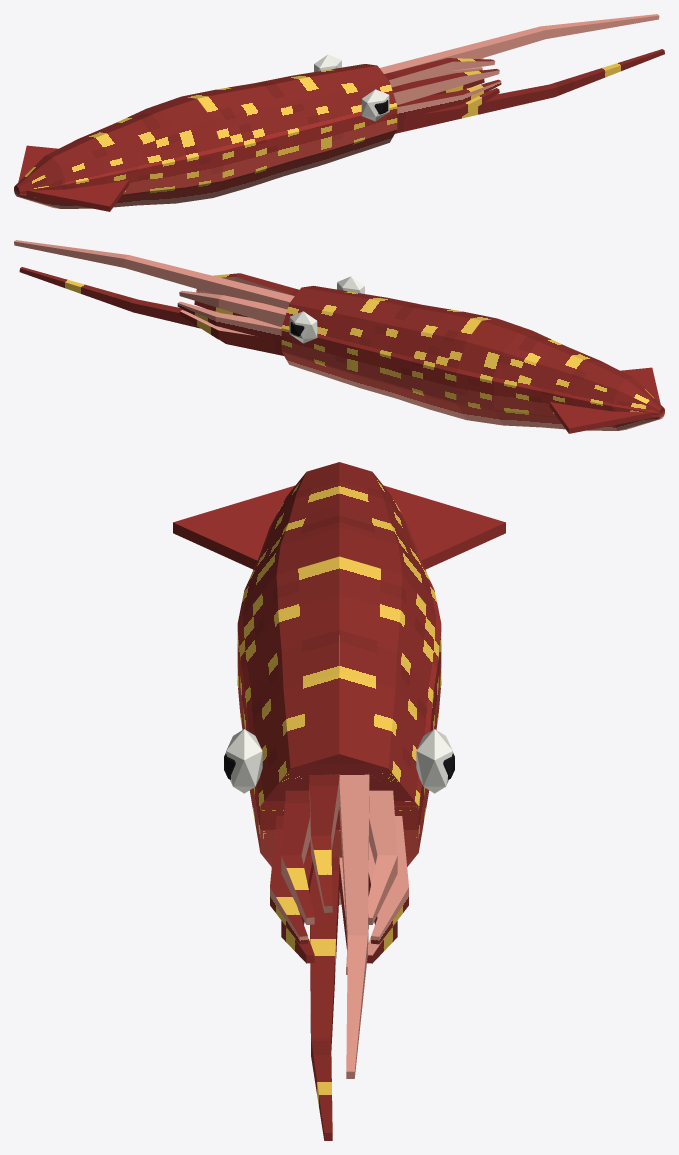
The model's file is the_shelf_leviathan.glb.
3 views of the same model, one above another, from view 1: azimuth 30°, elevation 25°; view 2: azimuth 150°, elevation 25°; view 3: azimuth 270°, elevation 25° (orthographic). The views are drawn at different scales.
Visible parts, largest first — view 1: fish_the_shelf_leviathan; view 2: fish_the_shelf_leviathan; view 3: fish_the_shelf_leviathan.
Part boxes in pixels (box(x1,y1,x2,y2)): fish_the_shelf_leviathan: box(14, 14, 664, 211); fish_the_shelf_leviathan: box(14, 240, 664, 433); fish_the_shelf_leviathan: box(173, 462, 505, 1140).
Bounding box in the file's own units: 1.25 × 0.18 × 0.28.
Materials: 4 (1 with a texture image).
